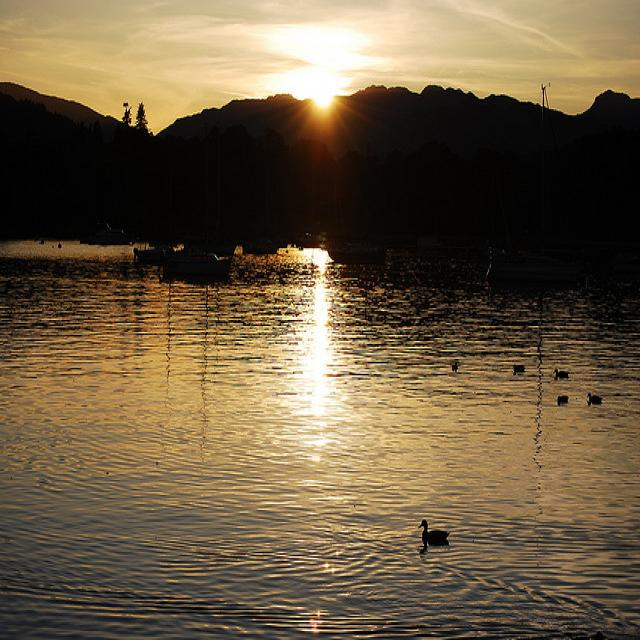Boat: (471, 234, 614, 311), (129, 210, 241, 302)
